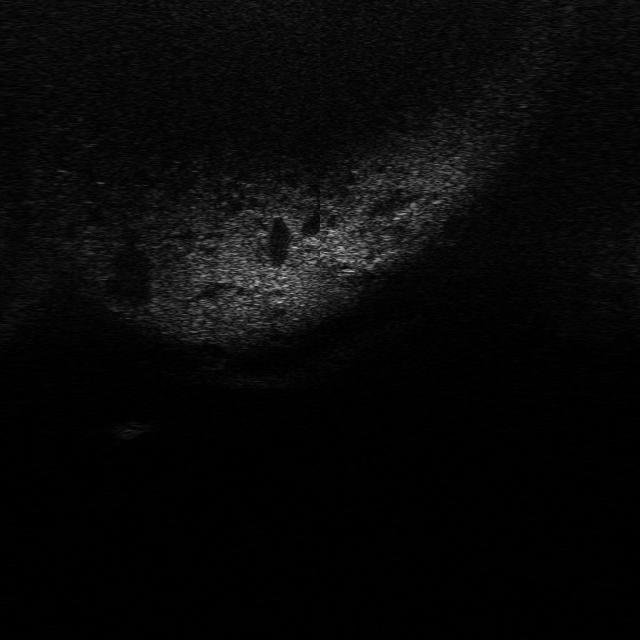ball: (266, 266, 296, 294)
cube: (101, 417, 153, 443)
